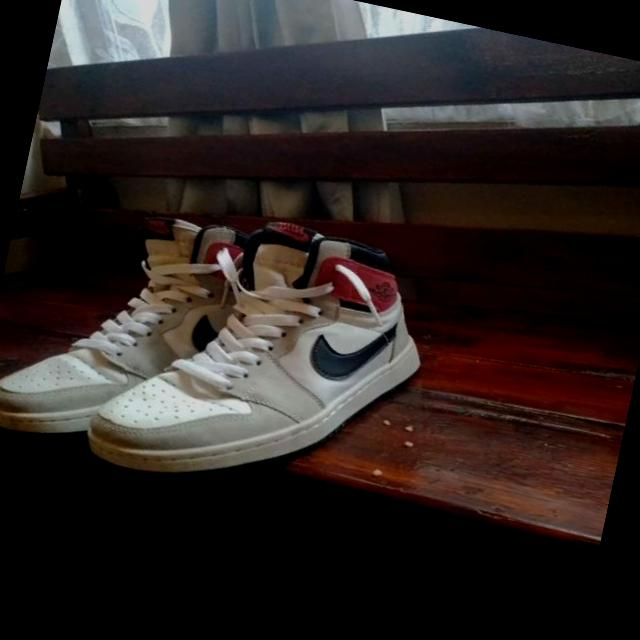nike_fake_jordan: (79, 190, 454, 529), (0, 176, 297, 483)
